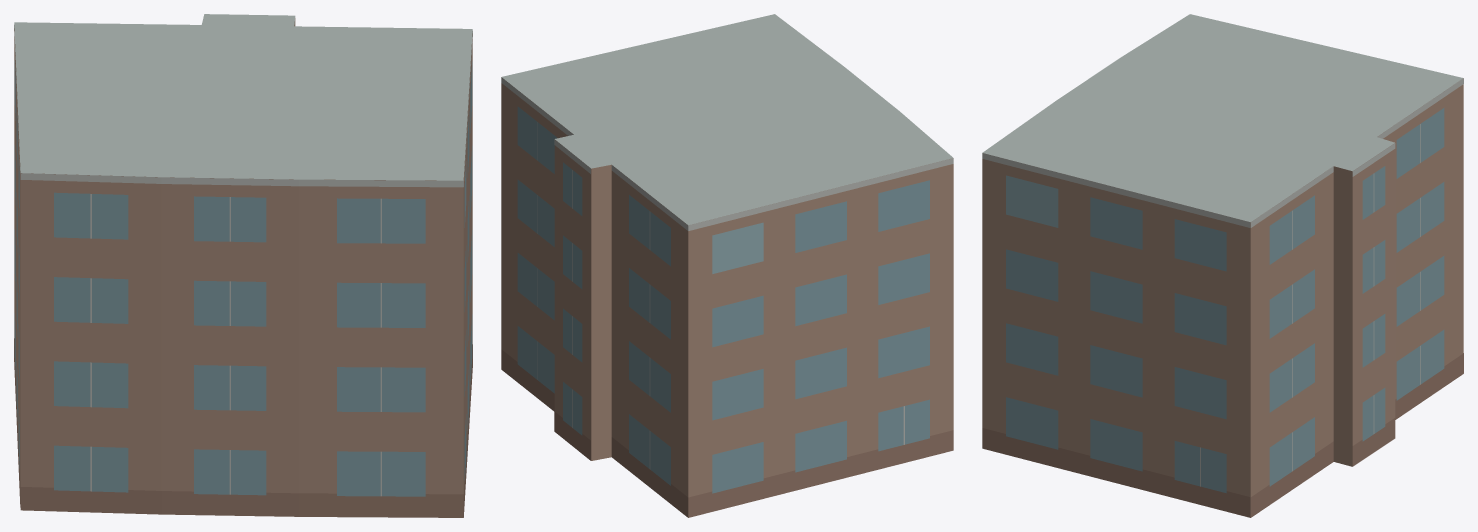
Rendered from survey-upis-32756810.glb.
3 renders of one model, left to right at view 1: azimuth 30°, elevation 25°; view 2: azimuth 150°, elevation 25°; view 3: azimuth 270°, elevation 25°, orthographic. The views are drawn at different scales.
Visible parts, largest first — view 1: survey-upis-32756810.tmp; view 2: survey-upis-32756810.tmp; view 3: survey-upis-32756810.tmp.
Part boxes in pixels (x1,y1,x2,y2): survey-upis-32756810.tmp: (14,14,472,517); survey-upis-32756810.tmp: (501,14,953,517); survey-upis-32756810.tmp: (982,14,1463,517).
Bounding box in the file's own units: 18.44 × 12.2 × 18.02.
